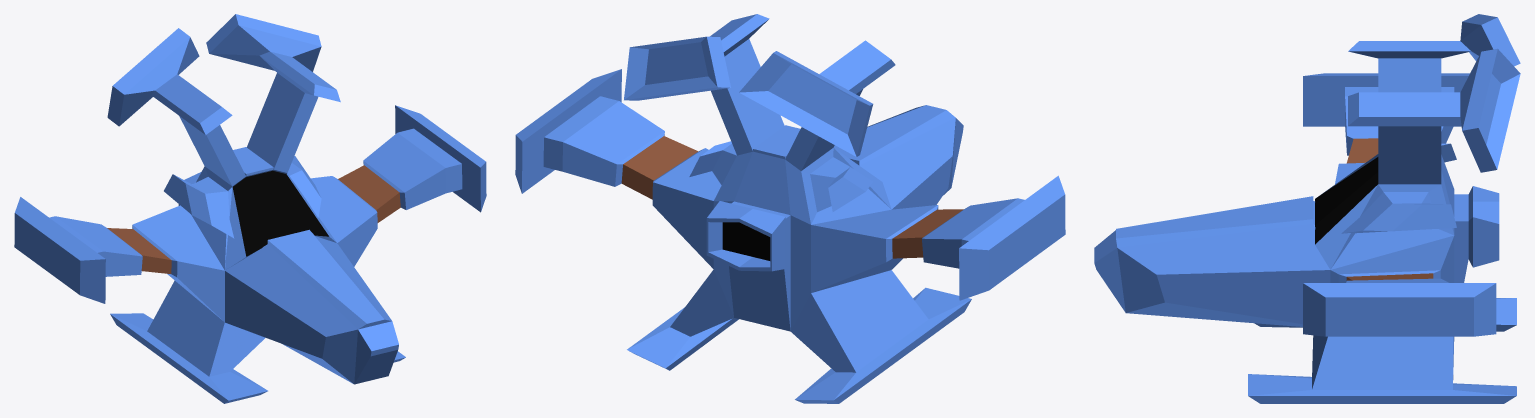
Rendered from ExpiremitalRaptor.glb.
The picture shows the model from 3 angles, left to right: view 1: azimuth 30°, elevation 25°; view 2: azimuth 150°, elevation 25°; view 3: azimuth 270°, elevation 25°; orthographic projection. The views are drawn at different scales.
Parts seen in each view (by area): view 1: ExpiremitalRaptor; view 2: ExpiremitalRaptor; view 3: ExpiremitalRaptor.
Part boxes in pixels (x1,y1,x2,y2): ExpiremitalRaptor: (14, 14, 486, 403); ExpiremitalRaptor: (515, 14, 1065, 403); ExpiremitalRaptor: (1094, 14, 1520, 403).
Size of the model in its own units: 9.72 by 6.67 by 7.8.
Materials: 1 (1 with a texture image).
